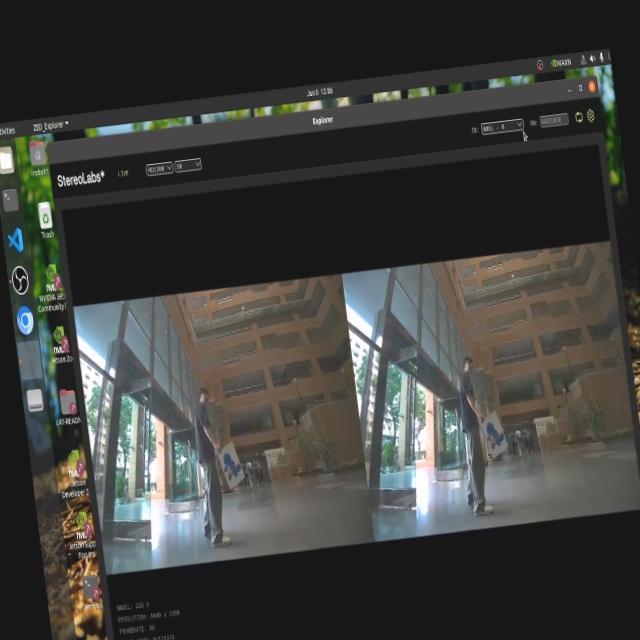blue: (480, 414, 510, 458), (217, 446, 242, 486)
